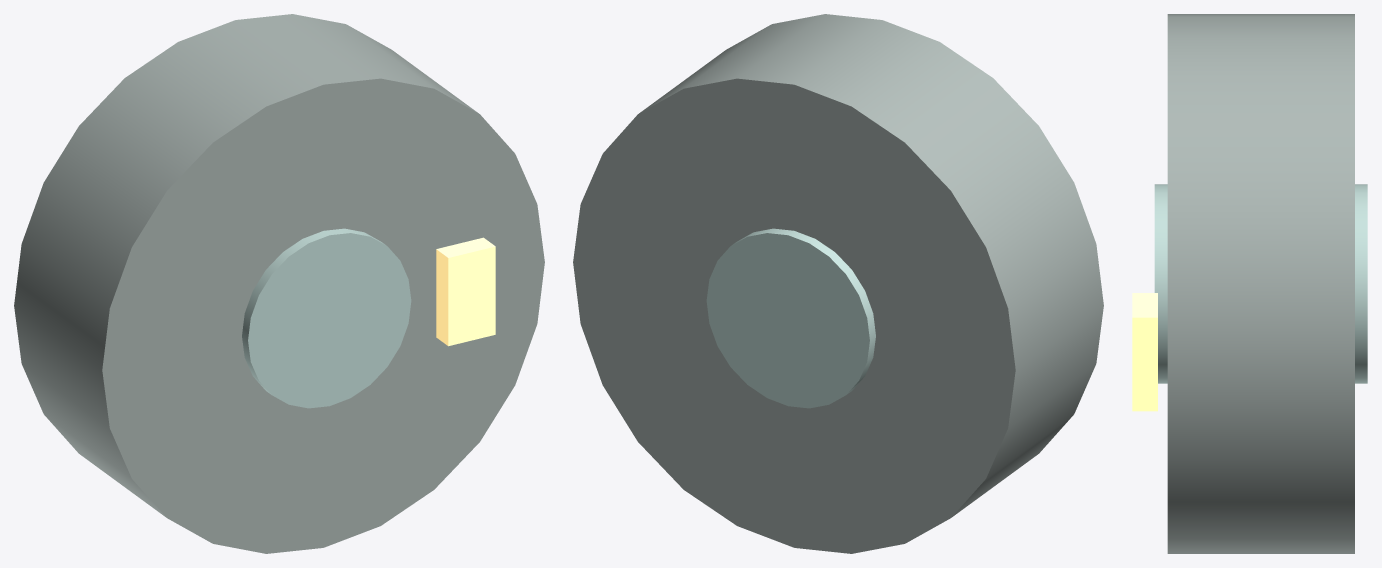
Rendered from track_road_low_resistance.glb.
The picture shows the model from 3 angles, left to right: view 1: azimuth 30°, elevation 25°; view 2: azimuth 150°, elevation 25°; view 3: azimuth 270°, elevation 25°; orthographic projection. The views are drawn at different scales.
Parts seen in each view (by area): view 1: low_resistance_road_wheel, low_resistance_hub, low_resistance_rotation_witness; view 2: low_resistance_road_wheel, low_resistance_hub; view 3: low_resistance_road_wheel, low_resistance_hub, low_resistance_rotation_witness.
Boxes of the visible parts, x1=… form: low_resistance_road_wheel: x1=14, y1=14, x2=544, y2=553; low_resistance_hub: x1=242, y1=228, x2=411, y2=408; low_resistance_rotation_witness: x1=436, y1=237, x2=495, y2=346; low_resistance_road_wheel: x1=573, y1=14, x2=1103, y2=553; low_resistance_hub: x1=706, y1=228, x2=875, y2=408; low_resistance_road_wheel: x1=1167, y1=14, x2=1354, y2=553; low_resistance_hub: x1=1154, y1=184, x2=1367, y2=383; low_resistance_rotation_witness: x1=1132, y1=293, x2=1157, y2=411.
Bounding box in the file's own units: 0.168 × 0.168 × 0.073.
